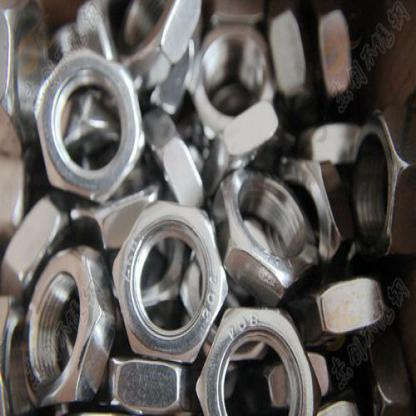FOD: (114, 196, 228, 366), (31, 47, 147, 205), (20, 240, 113, 408)
